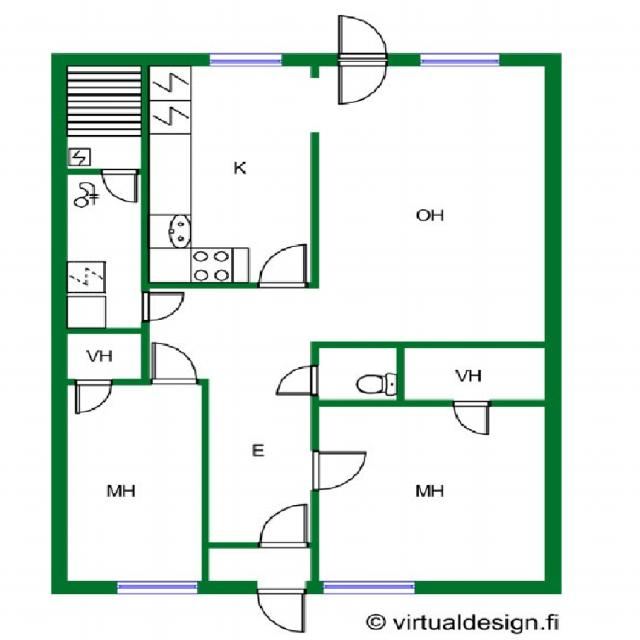door: (258, 582, 306, 633), (339, 53, 386, 104), (339, 15, 386, 66), (260, 504, 306, 548), (312, 452, 364, 490), (154, 345, 196, 385), (277, 366, 320, 394), (102, 168, 136, 202), (454, 401, 488, 433), (143, 293, 183, 320), (78, 379, 110, 412)
